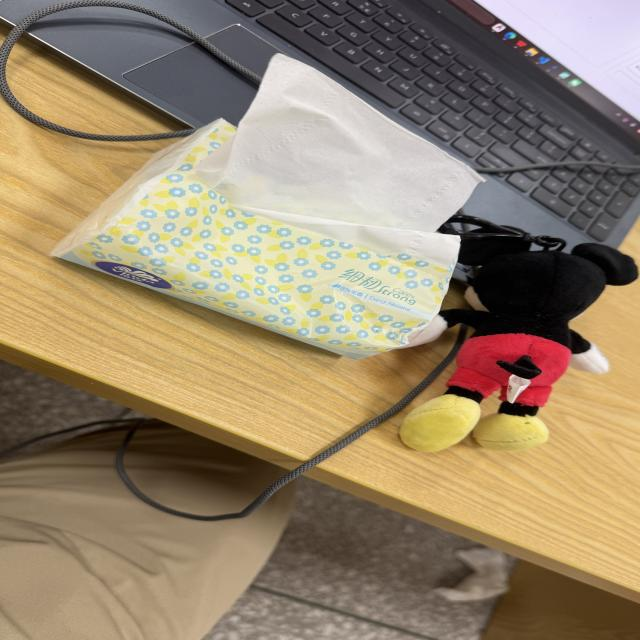mickey: (401, 239, 638, 451)
tissue: (53, 56, 481, 358), (53, 121, 454, 358), (197, 55, 482, 255), (434, 548, 508, 601)
